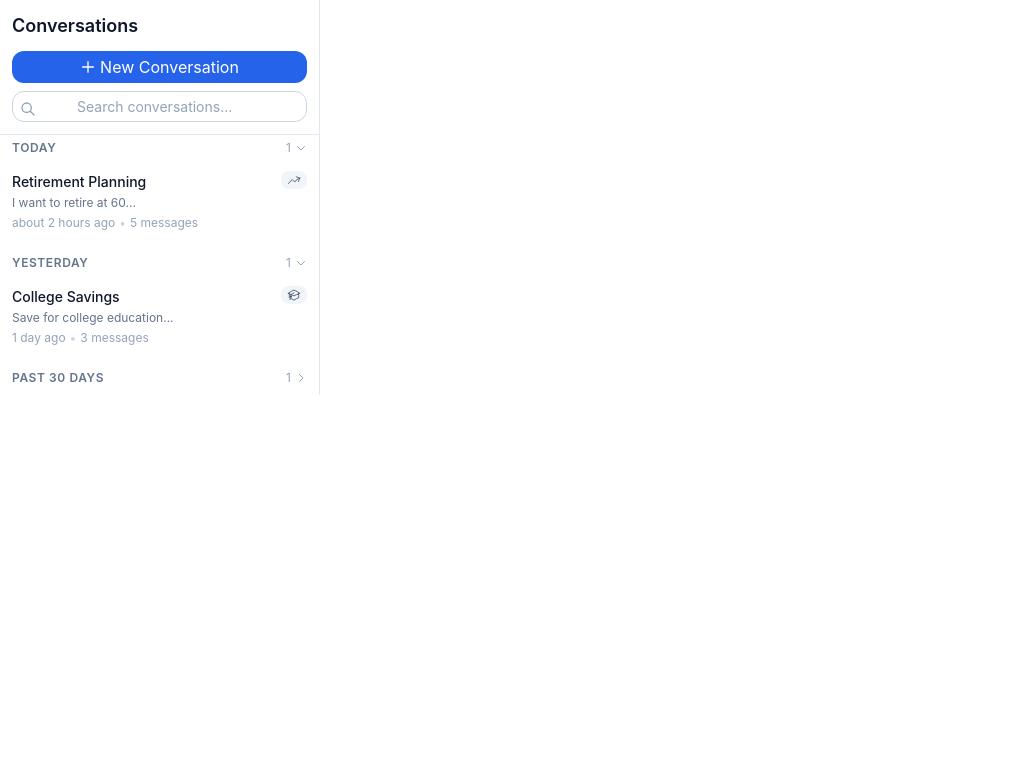
Scenario: ThreadSidebar › shows delete confirmation modal
Hover over the text "College Savings".
mouse_move(160, 316)  # box [4,276,315,357]
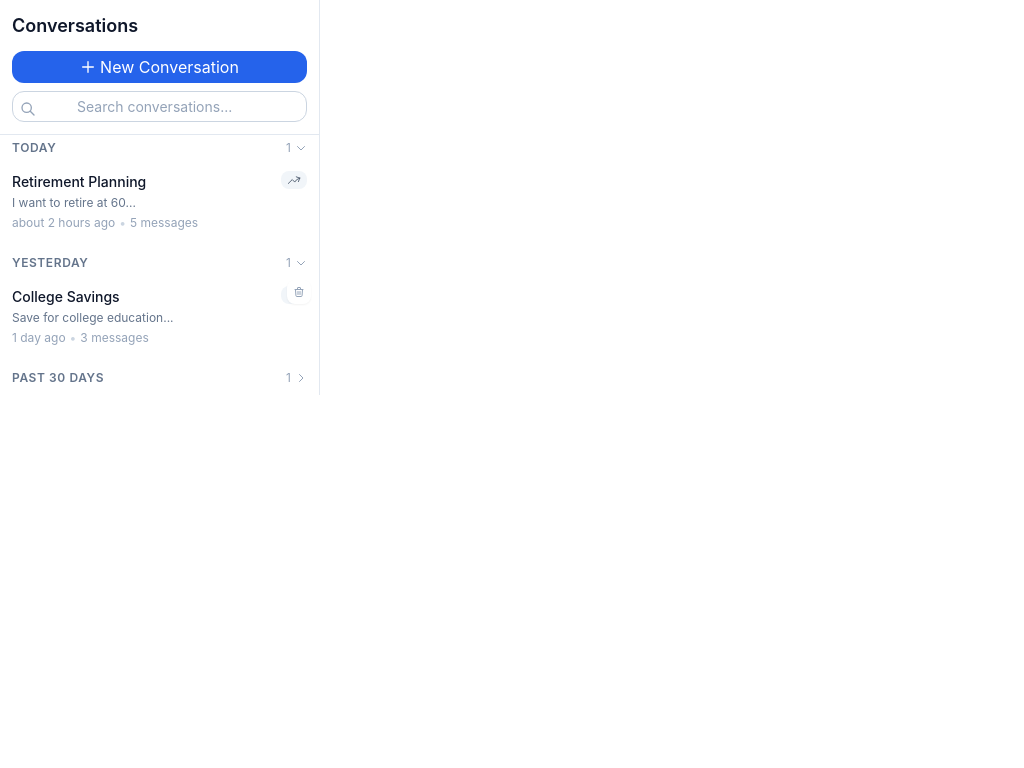
Click the button named "Delete conversation".
click(299, 292)  # box [287,280,311,304]
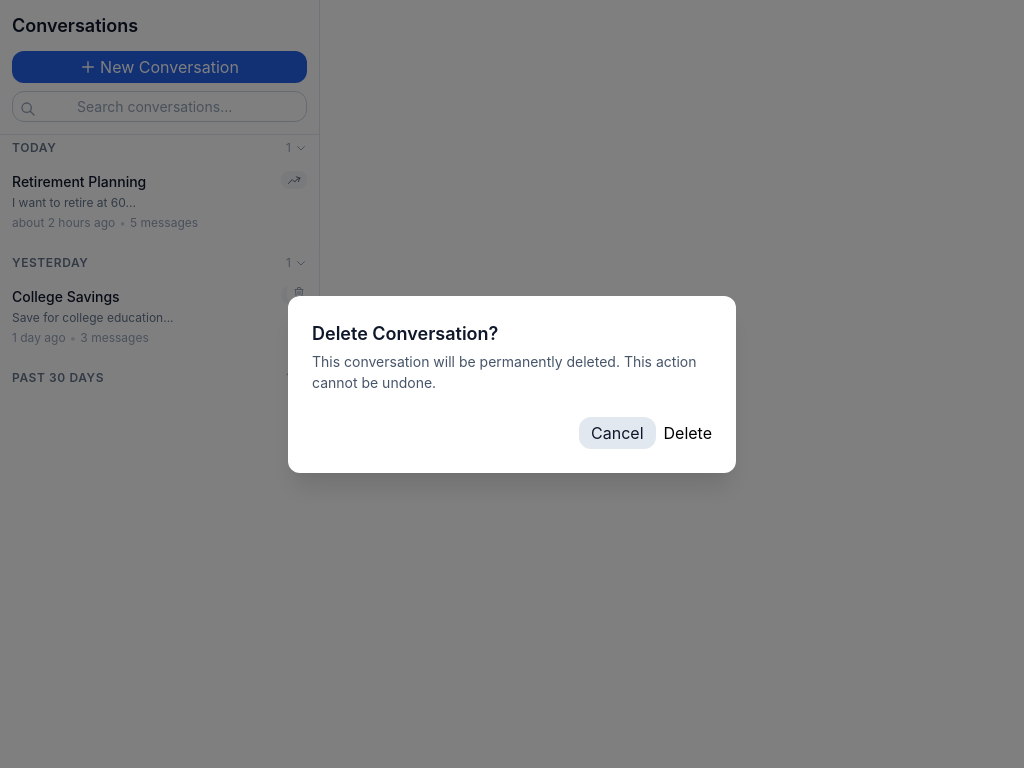
Now the heading "Delete Conversation?" is shown, box [312,322,498,344]
Now the text "This conversation will be permanently deleted" is shown, box [312,352,696,390]
